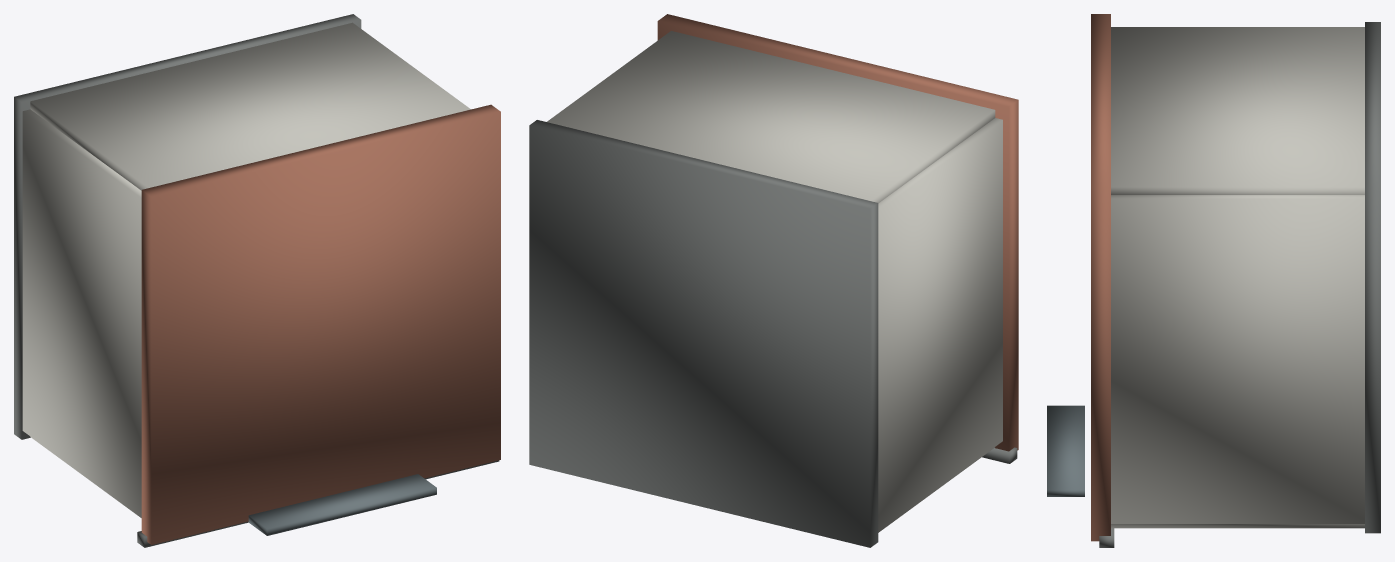
Rendered from guardhouse.glb.
3 views of the same model, side by side, from view 1: azimuth 30°, elevation 25°; view 2: azimuth 150°, elevation 25°; view 3: azimuth 270°, elevation 25° (orthographic).
Visible parts, largest first — view 1: guardhouse; view 2: guardhouse; view 3: guardhouse.
Part boxes in pixels (box(x1,y1,x2,y2)): guardhouse: box(14, 14, 500, 547); guardhouse: box(529, 14, 1018, 547); guardhouse: box(1047, 14, 1380, 547).
Bounding box in the file's own units: 4.18 × 3.98 × 3.35.
